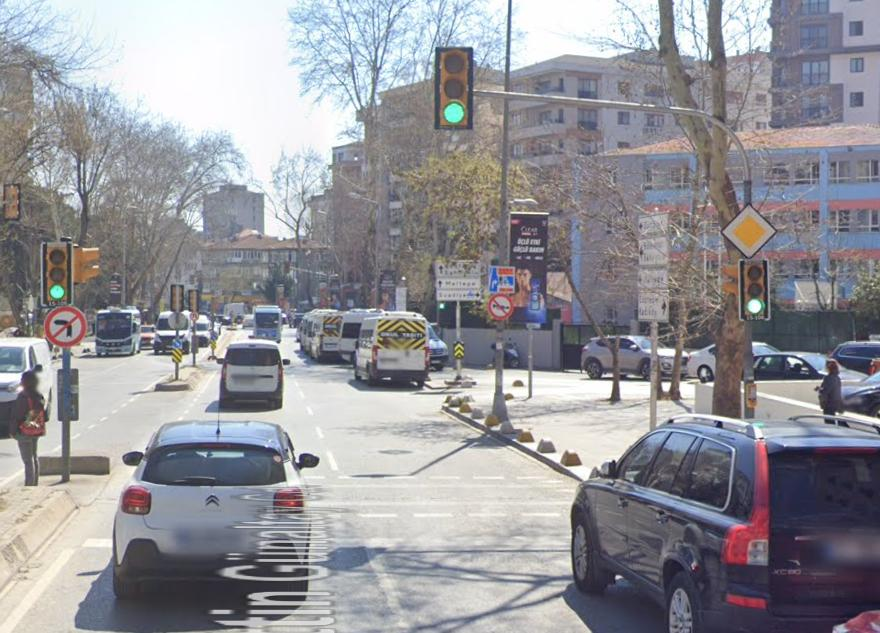greenlight: (438, 42, 472, 129), (45, 238, 74, 304), (740, 261, 769, 318), (440, 299, 449, 327)
leftturnsareforbidden: (47, 308, 85, 346)
